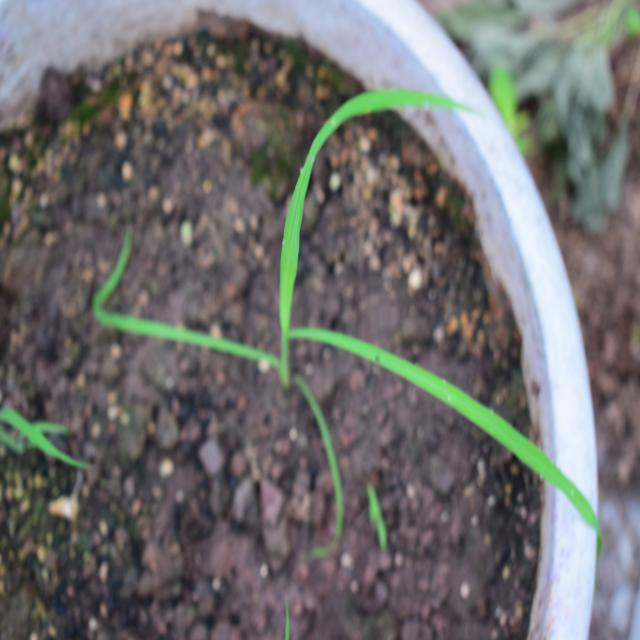barnyard_grass: (138, 74, 606, 530)
